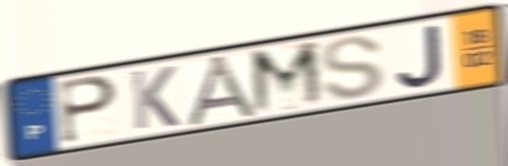A: (183, 52, 265, 129)
J: (394, 21, 446, 90)
K: (128, 63, 182, 132)
M: (247, 38, 329, 119)
P: (57, 73, 120, 146)
S: (318, 33, 387, 102)
